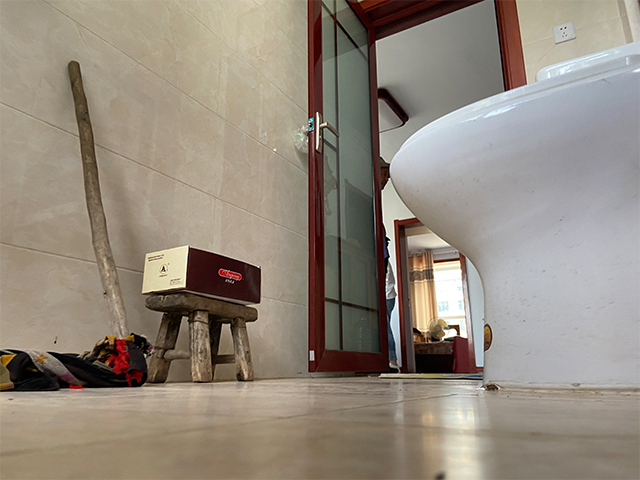carpet: (376, 372, 484, 380)
closestool: (388, 39, 640, 394)
stool: (144, 291, 259, 384)
